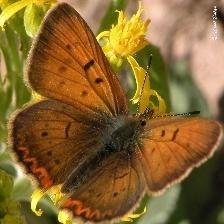butterfly: (9, 4, 222, 224)
